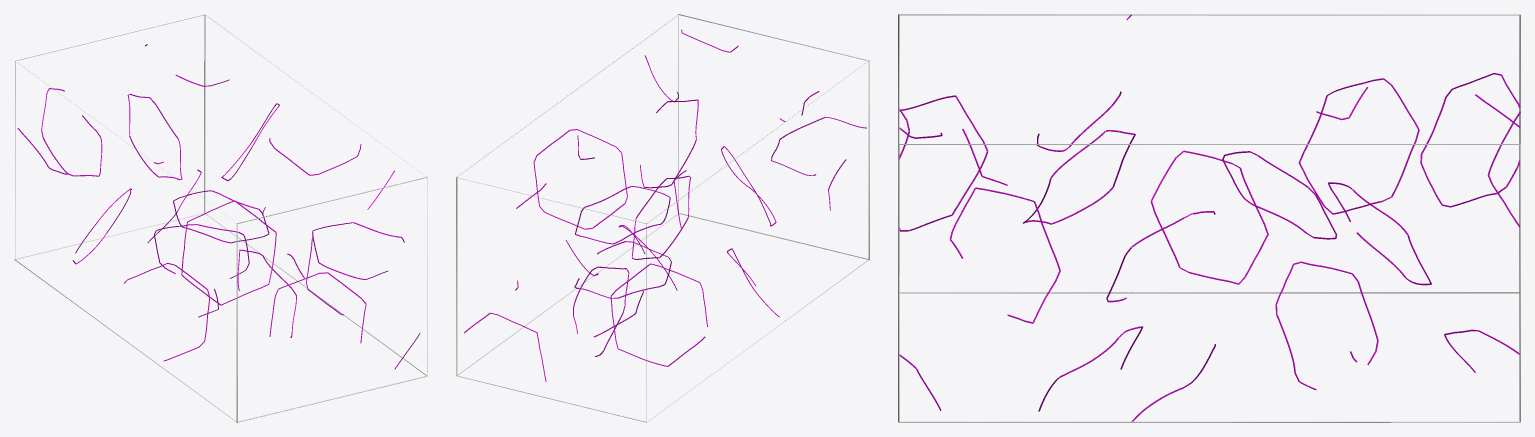
3 views of the same model, side by side, from view 1: azimuth 30°, elevation 25°; view 2: azimuth 150°, elevation 25°; view 3: azimuth 270°, elevation 25° (orthographic). The views are drawn at different scales.
Parts seen in each view (by area): view 1: Shape_IndexedLineSet.001, Shape_IndexedLineSet; view 2: Shape_IndexedLineSet.001, Shape_IndexedLineSet; view 3: Shape_IndexedLineSet.001, Shape_IndexedLineSet.
Part boxes in pixels (bbox=[...]): Shape_IndexedLineSet.001: bbox=[17, 44, 419, 369]; Shape_IndexedLineSet: bbox=[14, 14, 427, 422]; Shape_IndexedLineSet.001: bbox=[464, 29, 866, 381]; Shape_IndexedLineSet: bbox=[456, 14, 869, 422]; Shape_IndexedLineSet.001: bbox=[899, 14, 1520, 421]; Shape_IndexedLineSet: bbox=[898, 14, 1520, 422].
Size of the model in its own units: 233 by 233 by 471.
